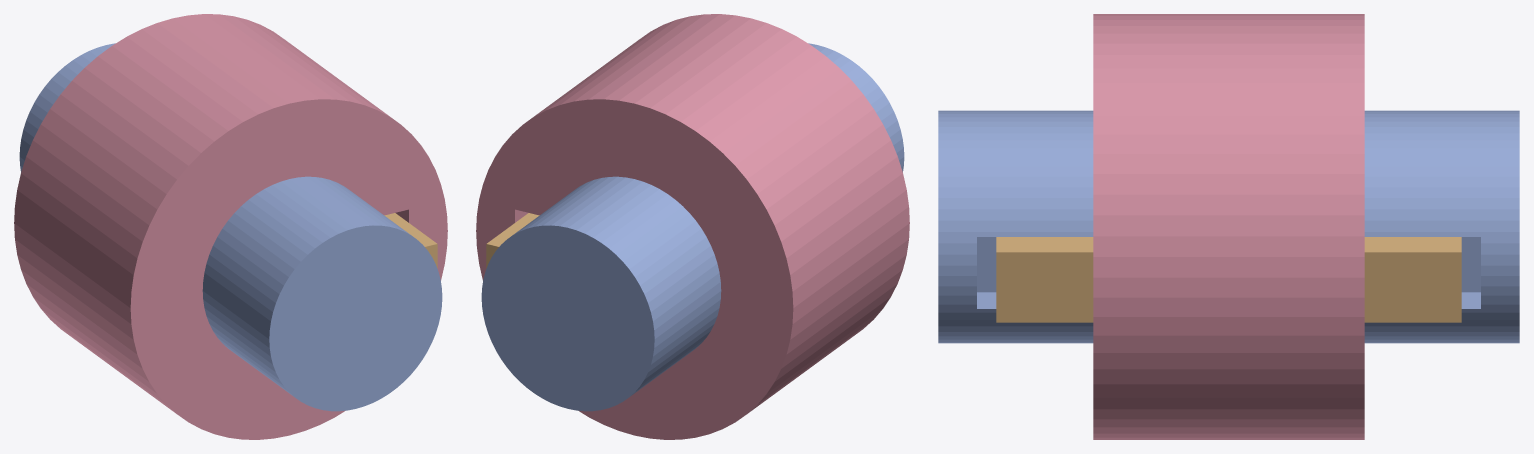
The model's file is shaft_key_demo.glb.
The picture shows the model from 3 angles, left to right: view 1: azimuth 30°, elevation 25°; view 2: azimuth 150°, elevation 25°; view 3: azimuth 270°, elevation 25°; orthographic projection. The views are drawn at different scales.
Visible parts, largest first — view 1: hub, shaft, key; view 2: hub, shaft, key; view 3: hub, shaft, key.
Boxes of the visible parts, <box> form: hub: <box>14,14,447,439</box>; shaft: <box>19,43,442,411</box>; key: <box>384,213,437,268</box>; hub: <box>476,14,909,439</box>; shaft: <box>481,43,904,411</box>; key: <box>486,213,539,268</box>; hub: <box>1093,14,1364,439</box>; shaft: <box>938,110,1519,343</box>; key: <box>996,237,1461,322</box>.
Bounding box in the file's own units: 22 × 22 × 30.
